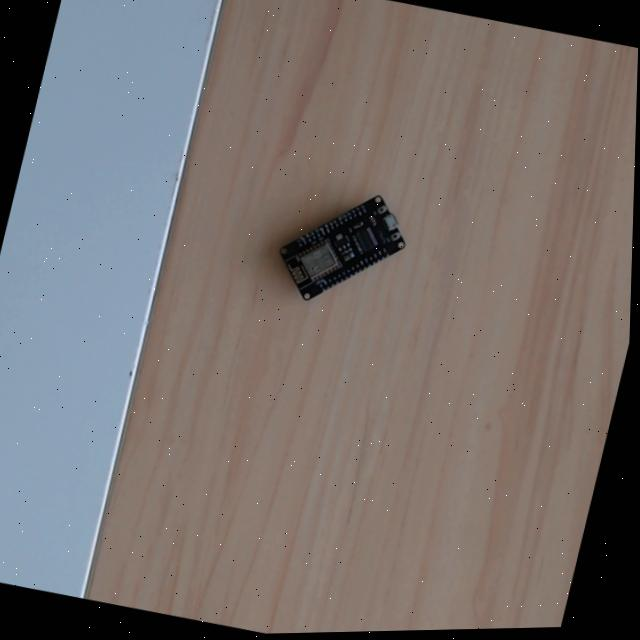ESP8266-NodeMCU: (276, 188, 414, 304)
